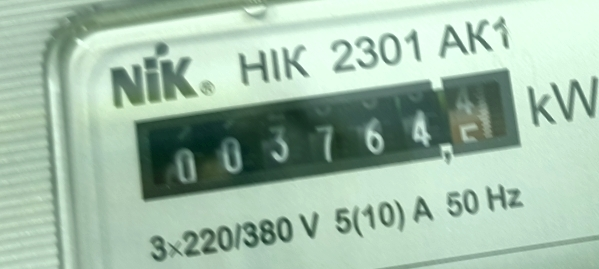0: (170, 144, 200, 184), (217, 133, 245, 175)
3: (264, 122, 292, 164)
4: (408, 106, 433, 148), (451, 82, 477, 116)
5: (456, 120, 481, 144)
6: (361, 114, 387, 156)
7: (312, 119, 341, 164)
screen: (115, 48, 537, 217)
